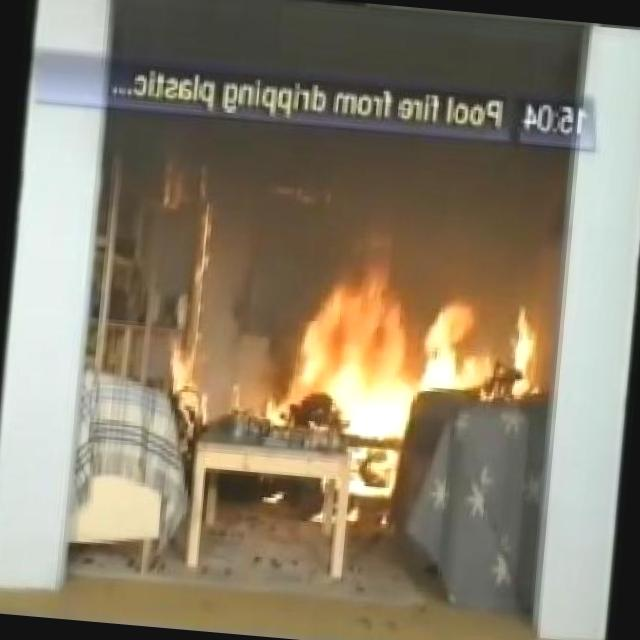fire: (261, 256, 552, 443)
